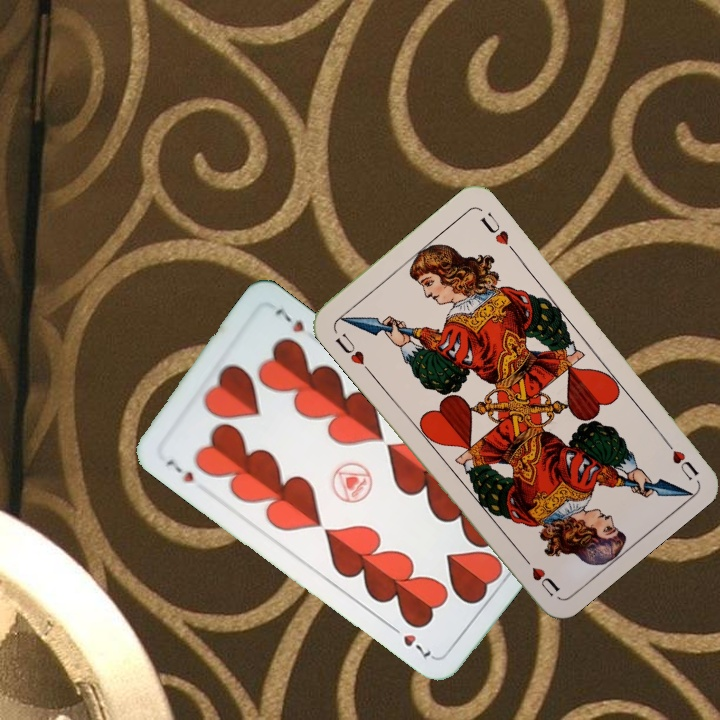H7: (162, 454, 197, 486)
HU: (658, 431, 701, 484), (331, 329, 373, 375)
